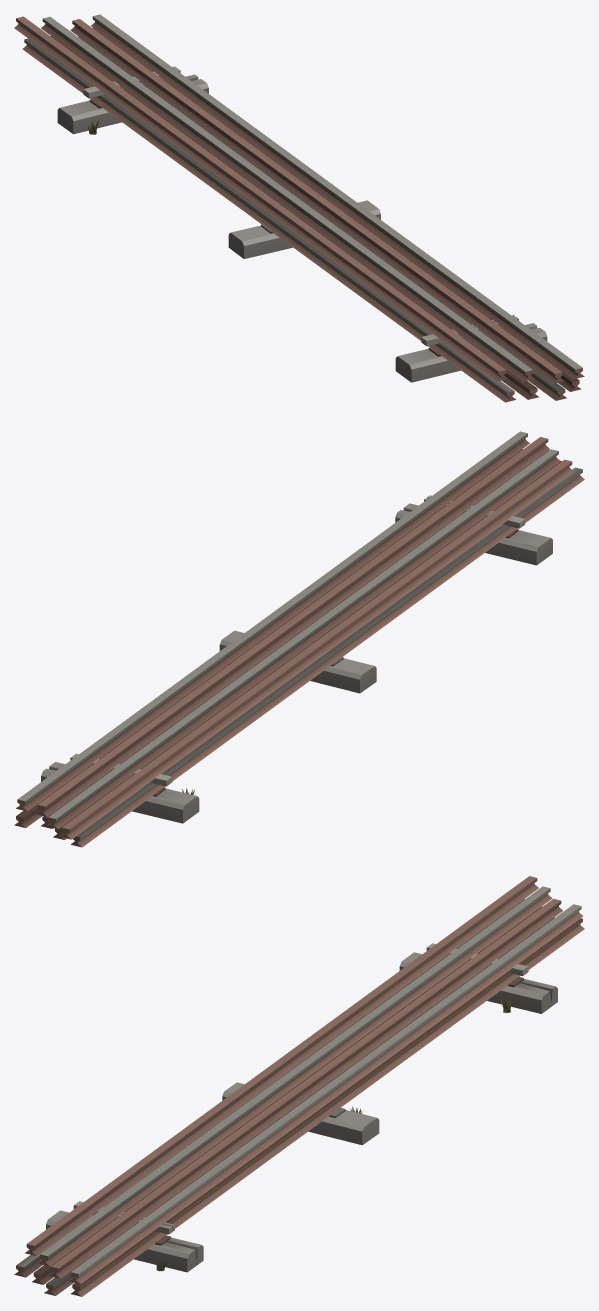
File: rails.glb
3 renders of one model, top to bottom at view 1: azimuth 30°, elevation 25°; view 2: azimuth 150°, elevation 25°; view 3: azimuth 330°, elevation 25°, orthographic. The views are drawn at different scales.
Parts seen in each view (by area): view 1: rails; view 2: rails; view 3: rails.
Boxes of the visible parts, box(x1,y1,x2,y2) form: rails: box(14, 14, 584, 402); rails: box(14, 431, 584, 847); rails: box(14, 876, 584, 1296).
Size of the model in its own units: 1.31 by 0.3781 by 8.34.
